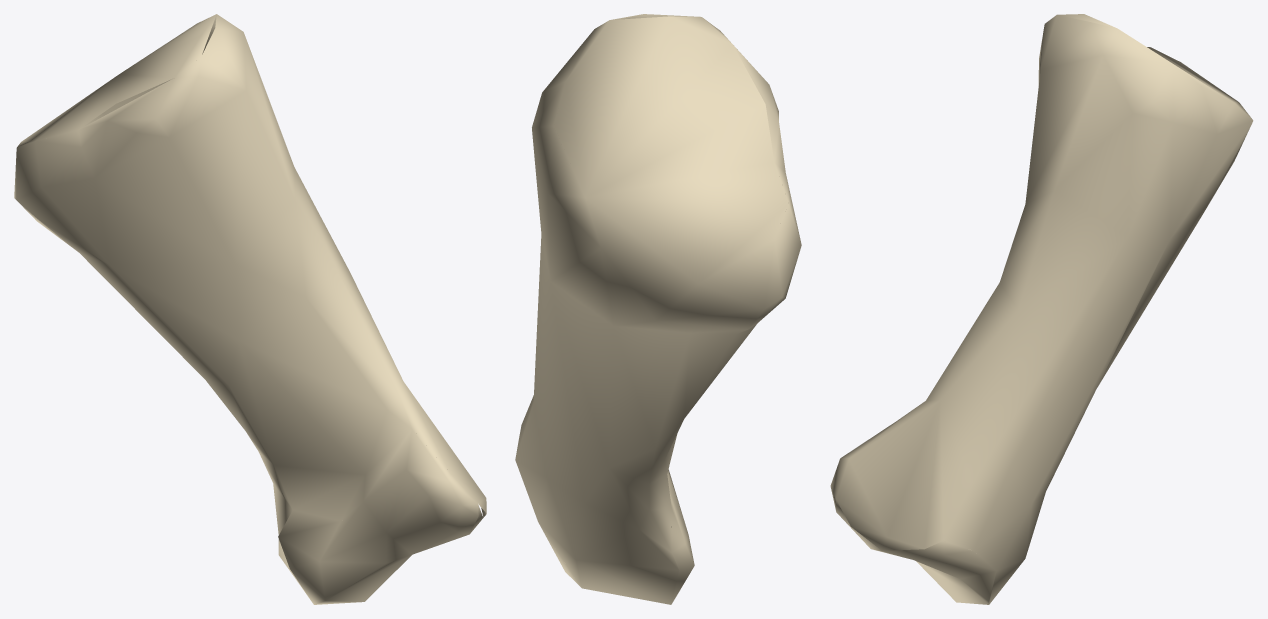
Rendered from esqueleto-proximal-phalanx-of-first-finger-of-hand-l.glb.
3 renders of one model, left to right at view 1: azimuth 30°, elevation 25°; view 2: azimuth 150°, elevation 25°; view 3: azimuth 270°, elevation 25°, orthographic. The views are drawn at different scales.
Parts seen in each view (by area): view 1: Proximal phalanx of first finger of hand.l; view 2: Proximal phalanx of first finger of hand.l; view 3: Proximal phalanx of first finger of hand.l.
Boxes of the visible parts, box(x1,y1,x2,y2) form: Proximal phalanx of first finger of hand.l: box(14, 14, 486, 604); Proximal phalanx of first finger of hand.l: box(515, 14, 801, 604); Proximal phalanx of first finger of hand.l: box(830, 14, 1253, 604).
Size of the model in its own units: 0.0209 by 0.0325 by 0.023.
